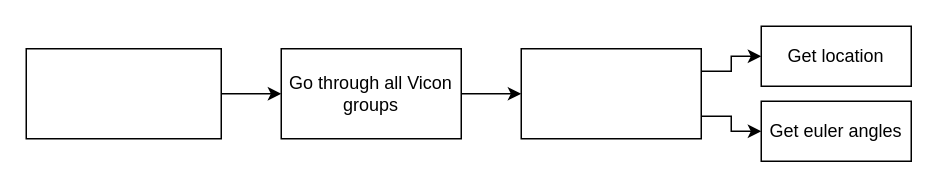
This 938x188 diagram has some shape labels left out. The shapes that lost their labels are listed below. From the top down, each one's centre as x and y in pixels, then its label:
the point at 123,93: Connect to Vicon Datastream SDK through localhost:801
the point at 610,93: Go through all segmented points within the groups
